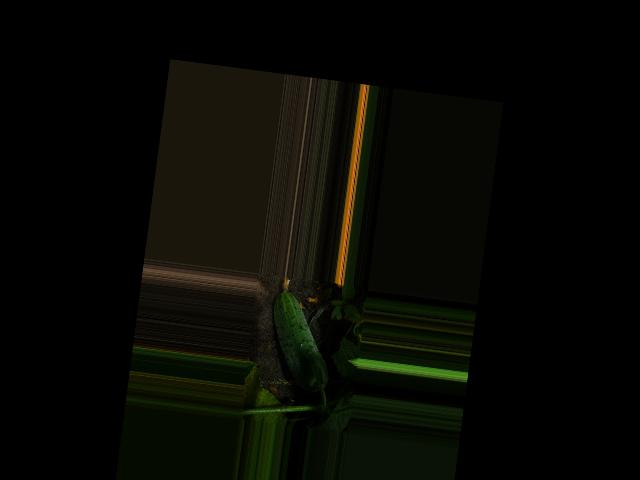cucumber: (262, 275, 340, 393)
